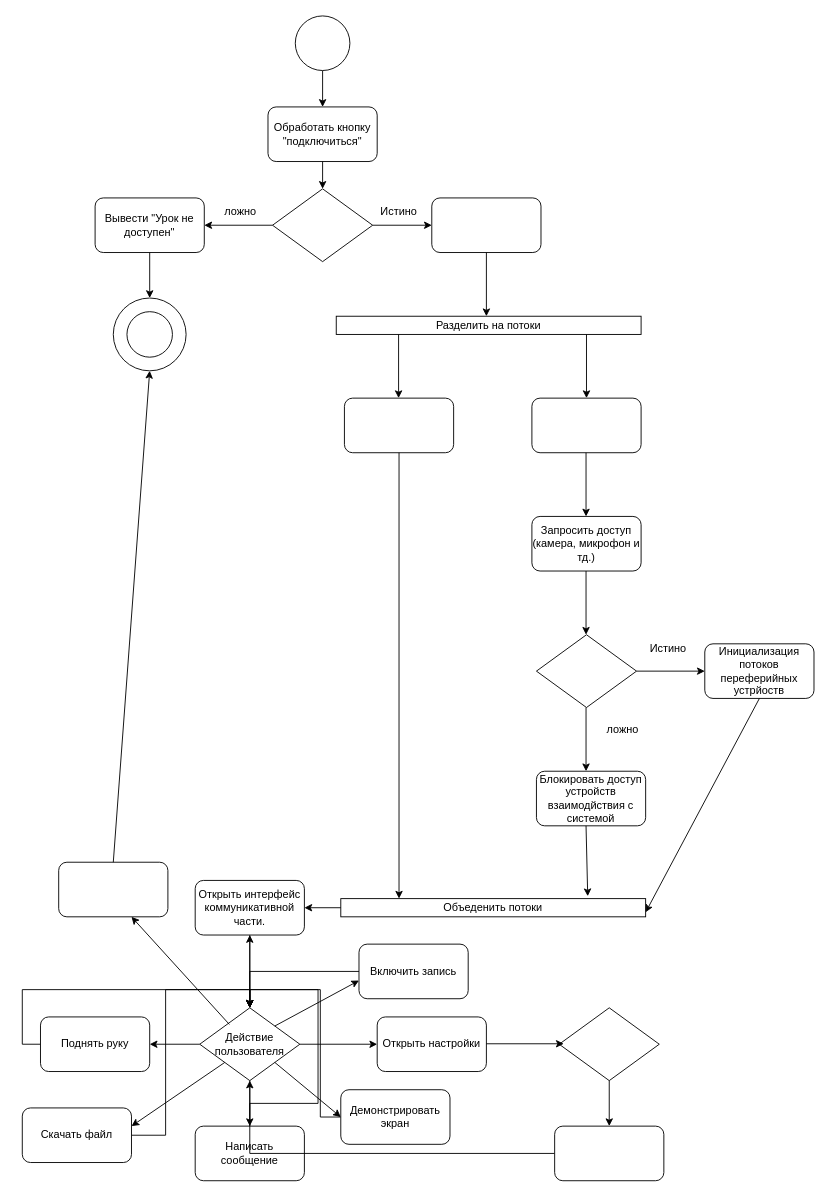
Image size: 830x1197. Some labels were removed from this diagram. The box of each missing label's shape, as (x1, y1, x2, y2) in pixels:
Выбор действия: (558, 1007, 659, 1081)
Выйти из урока: (58, 861, 168, 917)
Занятие активно?: (272, 188, 373, 262)
Настройить интерфейс / устройства ввода / вывода: (554, 1125, 664, 1181)
Открыть групповой чат: (344, 397, 454, 453)
Открыть прямой эфир с преподавателем: (531, 397, 641, 453)
Подключить пользователя к серверу: (431, 197, 541, 253)
Разрешили?: (536, 634, 637, 708)
